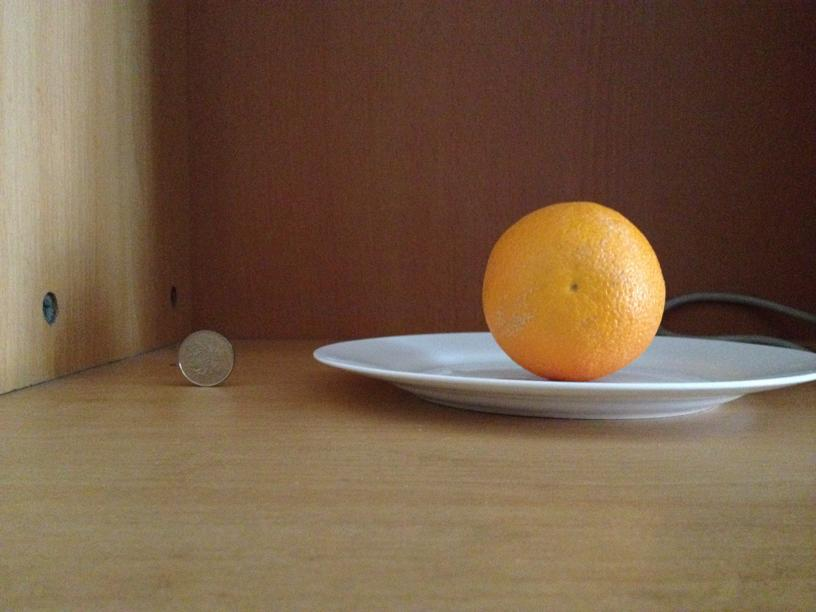coin: (177, 329, 233, 386)
orange: (484, 198, 666, 378)
